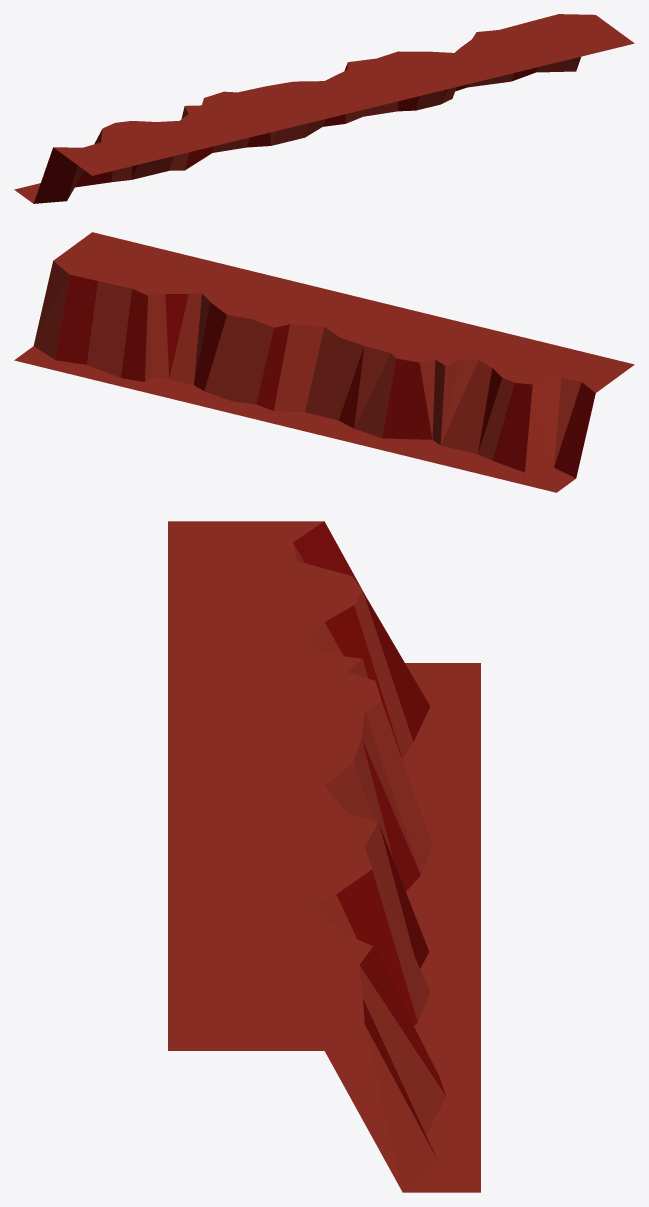
Rendered from Border_Wall_Long.fbx.
3 renders of one model, top to bottom at view 1: azimuth 30°, elevation 25°; view 2: azimuth 150°, elevation 25°; view 3: azimuth 270°, elevation 25°, orthographic. The views are drawn at different scales.
Parts seen in each view (by area): view 1: Plane.043; view 2: Plane.043; view 3: Plane.043.
Part boxes in pixels (x1,y1,x2,y2): Plane.043: (14,14,634,203); Plane.043: (14,232,634,492); Plane.043: (168,521,480,1192).
Bounding box in the file's own units: 800 × 100 × 200.
